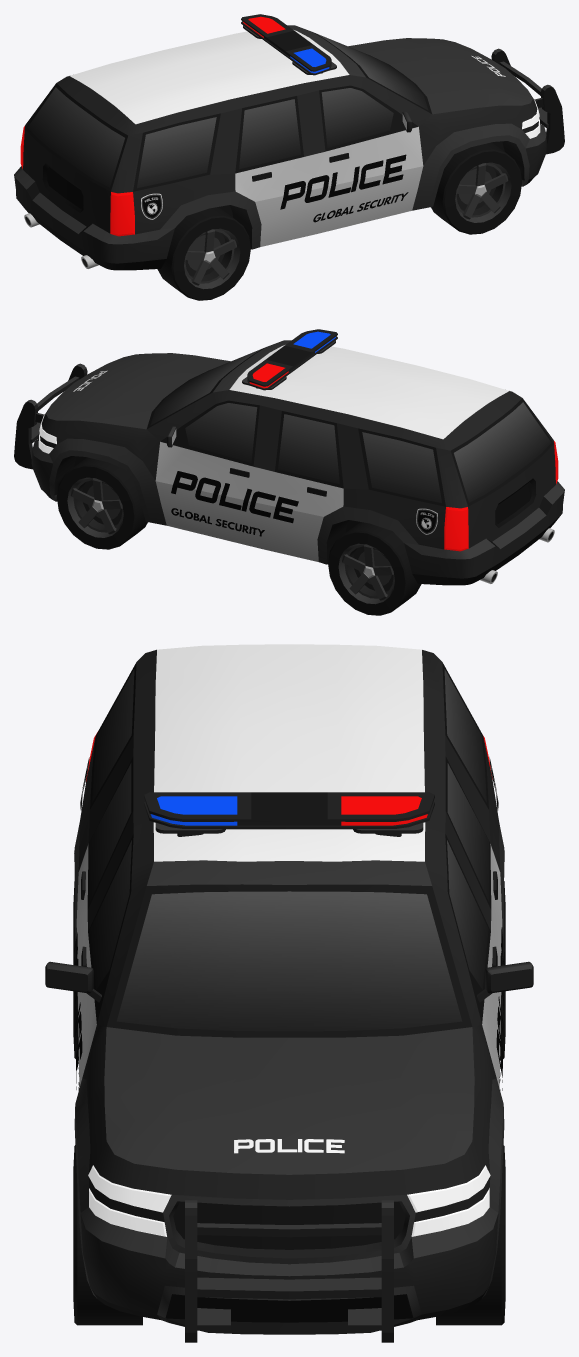
Rendered from Emergency_028.glb.
3 views of the same model, one above another, from view 1: azimuth 30°, elevation 25°; view 2: azimuth 150°, elevation 25°; view 3: azimuth 270°, elevation 25° (orthographic). The views are drawn at different scales.
Parts seen in each view (by area): view 1: Emergency_028, wheel_3_Emergency_028_Wheel_2R, wheel_1_Emergency_028_Wheel_1R; view 2: Emergency_028, wheel_2_Emergency_028_Wheel_2L, wheel_0_Emergency_028_Wheel_1L; view 3: Emergency_028, wheel_0_Emergency_028_Wheel_1L, wheel_1_Emergency_028_Wheel_1R.
Boxes of the visible parts, bbox=[...] form: Emergency_028: bbox=[14, 14, 564, 270]; wheel_3_Emergency_028_Wheel_2R: bbox=[157, 207, 250, 300]; wheel_1_Emergency_028_Wheel_1R: bbox=[431, 142, 521, 234]; Emergency_028: bbox=[14, 329, 564, 585]; wheel_2_Emergency_028_Wheel_2L: bbox=[328, 522, 421, 615]; wheel_0_Emergency_028_Wheel_1L: bbox=[57, 457, 147, 549]; Emergency_028: bbox=[45, 644, 533, 1342]; wheel_0_Emergency_028_Wheel_1L: bbox=[436, 1145, 505, 1325]; wheel_1_Emergency_028_Wheel_1R: bbox=[73, 1145, 142, 1325].
Size of the model in its own units: 4.77 by 1.77 by 2.08.
3 materials, 3 textured.
